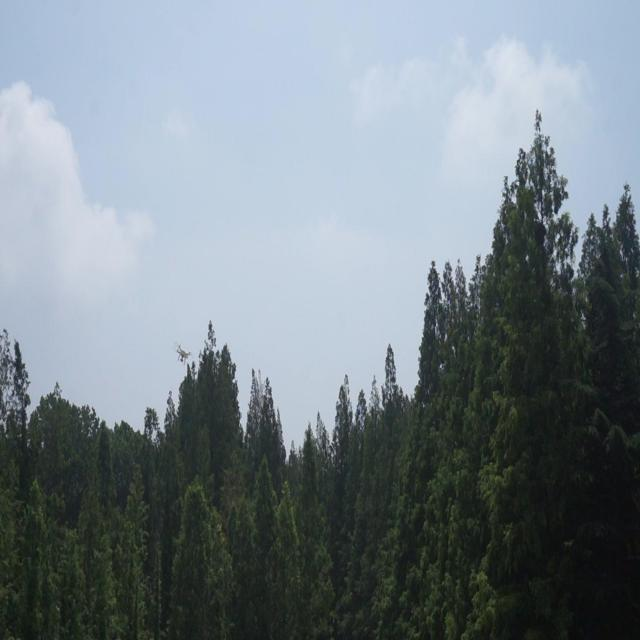UAV: (172, 342, 195, 365)
